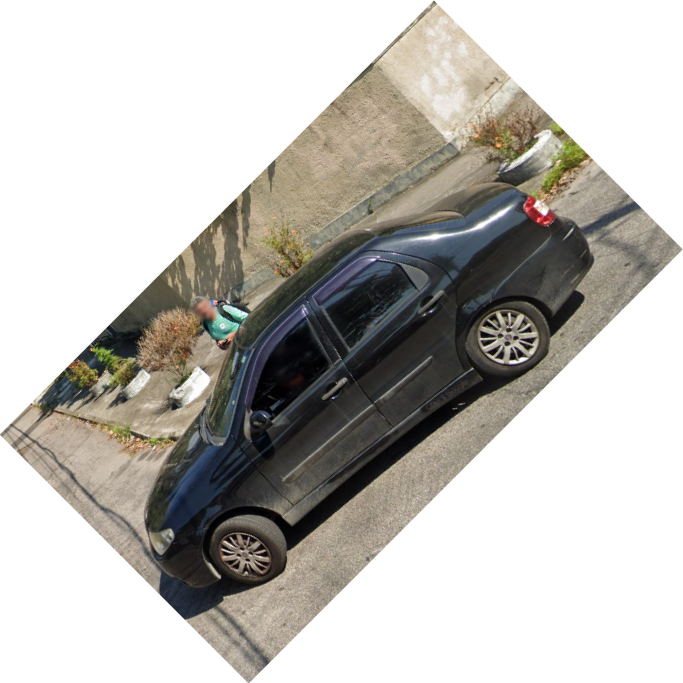car: (144, 182, 596, 589)
